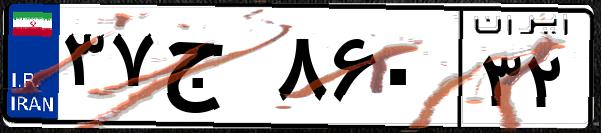0: (385, 28, 445, 110)
2: (525, 38, 570, 115)
3: (57, 26, 110, 100), (475, 38, 525, 113)
6: (330, 28, 385, 110)
7: (110, 28, 158, 98)
8: (270, 28, 330, 110)
ج: (158, 20, 270, 120)
